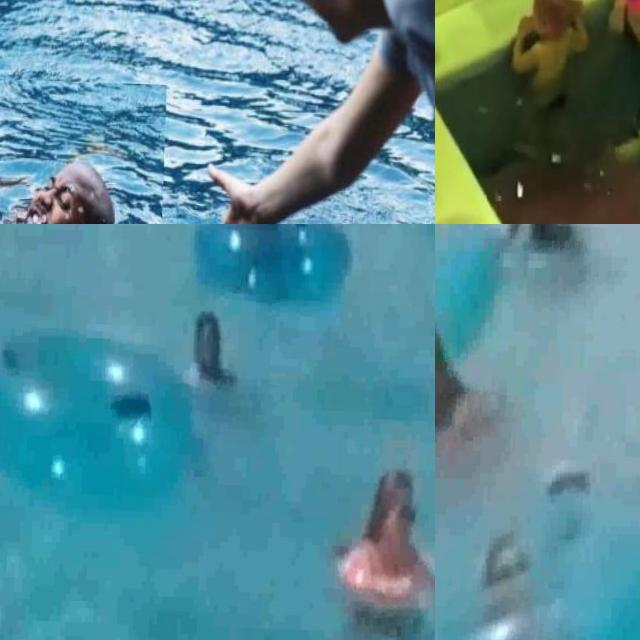drowning: (0, 76, 168, 224), (568, 303, 640, 544), (156, 288, 258, 410)
swimming: (331, 456, 435, 609), (435, 224, 495, 473), (502, 0, 593, 114), (597, 0, 640, 163), (198, 224, 346, 263), (517, 224, 584, 262)
